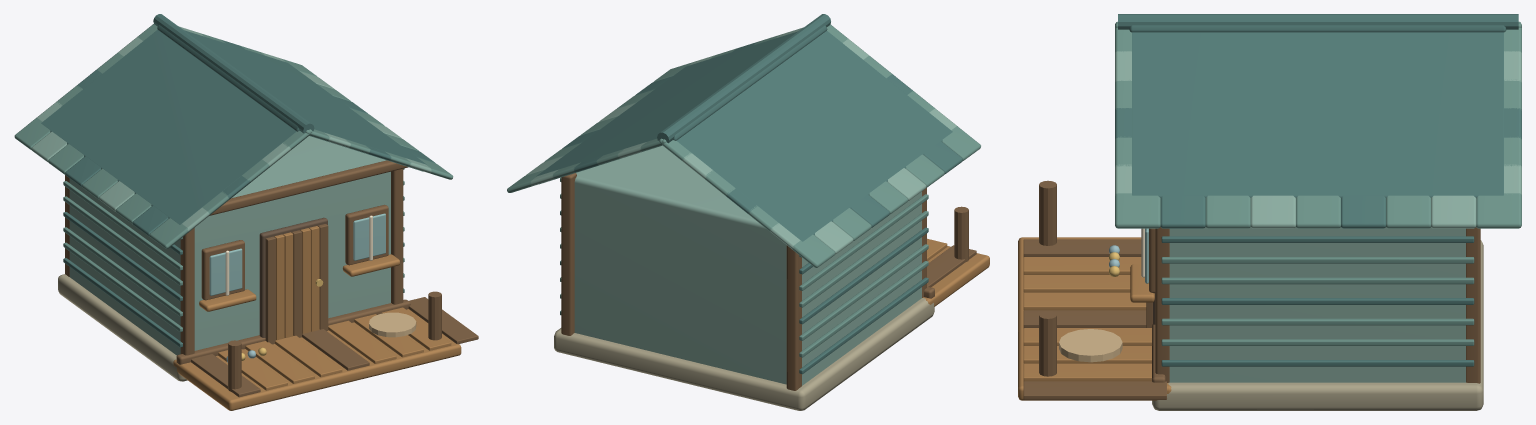
Rendered from fishing_shack.glb.
3 views of the same model, side by side, from view 1: azimuth 30°, elevation 25°; view 2: azimuth 150°, elevation 25°; view 3: azimuth 270°, elevation 25° (orthographic). The views are drawn at different scales.
Visible parts, largest first — view 1: Roof deck, Storybook walls, Corner oak post, Door plank.001, Rounded roof tile, Cut stone foundation, Sea-glass pane, Door recess, Coiled rope; view 2: Storybook walls, Roof deck, Rounded roof tile, Cut stone foundation, Corner oak post, Door plank.001; view 3: Roof deck, Storybook walls, Rounded roof tile, Corner oak post, Door plank.001, Cut stone foundation, Coiled rope.
Boxes of the visible parts, bbox=[...] form: Roof deck: bbox=[41, 14, 435, 347]; Storybook walls: bbox=[31, 27, 431, 355]; Corner oak post: bbox=[65, 160, 478, 397]; Door plank.001: bbox=[173, 226, 461, 410]; Rounded roof tile: bbox=[14, 24, 453, 331]; Cut stone foundation: bbox=[58, 274, 187, 381]; Sea-glass pane: bbox=[209, 213, 385, 295]; Door recess: bbox=[259, 217, 327, 337]; Coiled rope: bbox=[369, 312, 416, 337]; Storybook walls: bbox=[526, 27, 956, 385]; Roof deck: bbox=[536, 14, 962, 374]; Rounded roof tile: bbox=[507, 24, 980, 357]; Cut stone foundation: bbox=[554, 298, 934, 410]; Corner oak post: bbox=[561, 173, 976, 390]; Door plank.001: bbox=[923, 238, 989, 306]; Roof deck: bbox=[1115, 14, 1521, 366]; Storybook walls: bbox=[1115, 51, 1521, 382]; Rounded roof tile: bbox=[1115, 21, 1521, 345]; Corner oak post: bbox=[1023, 180, 1480, 399]; Door plank.001: bbox=[1018, 237, 1171, 400]; Cut stone foundation: bbox=[1152, 240, 1483, 410]; Coiled rope: bbox=[1059, 329, 1122, 362].
Size of the model in its own units: 4.89 by 3.92 by 5.54.
